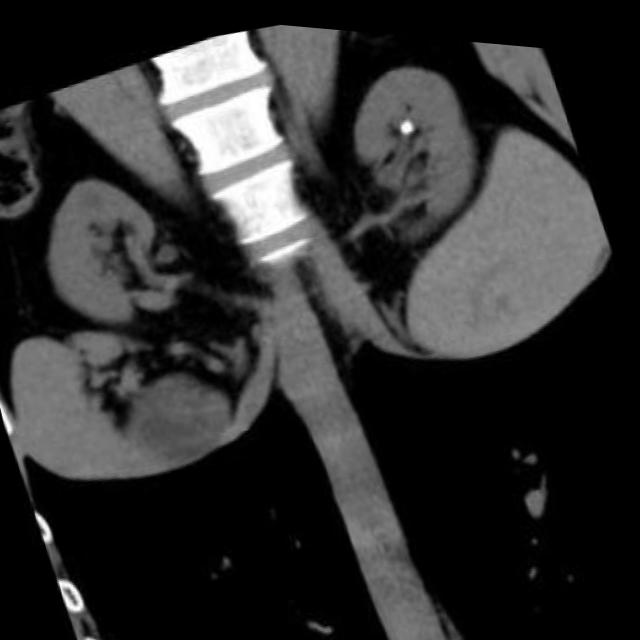Tas_Var: (387, 101, 426, 140)
